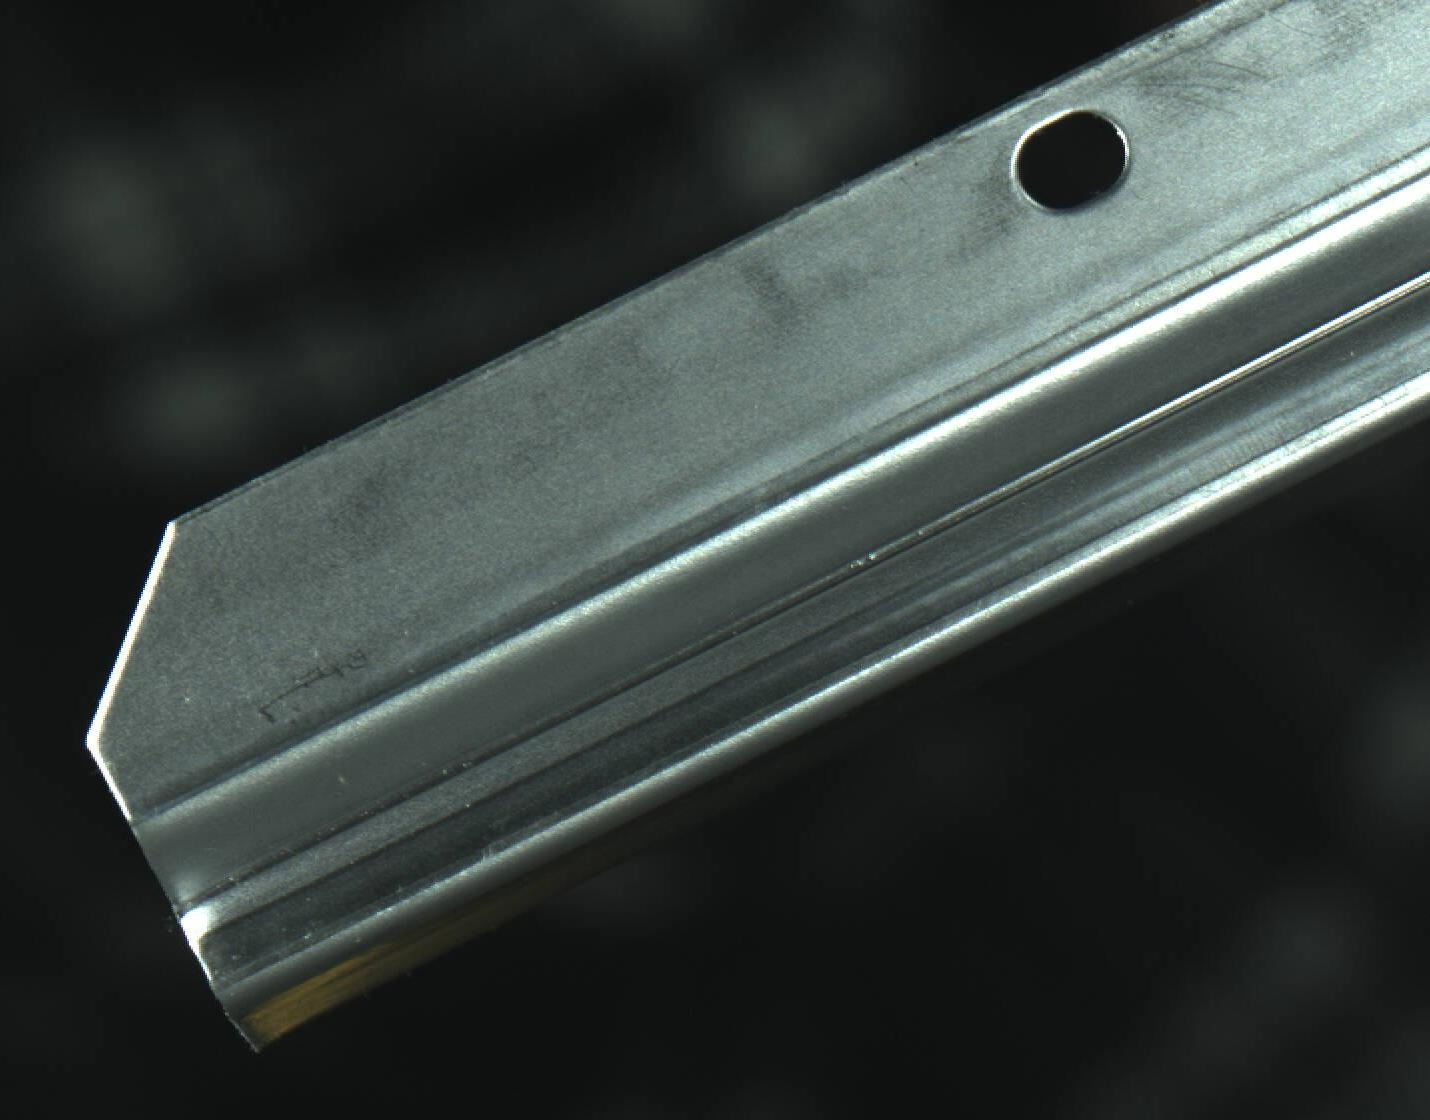cut: (46, 411, 666, 1075)
holes: (1008, 103, 1136, 221)
